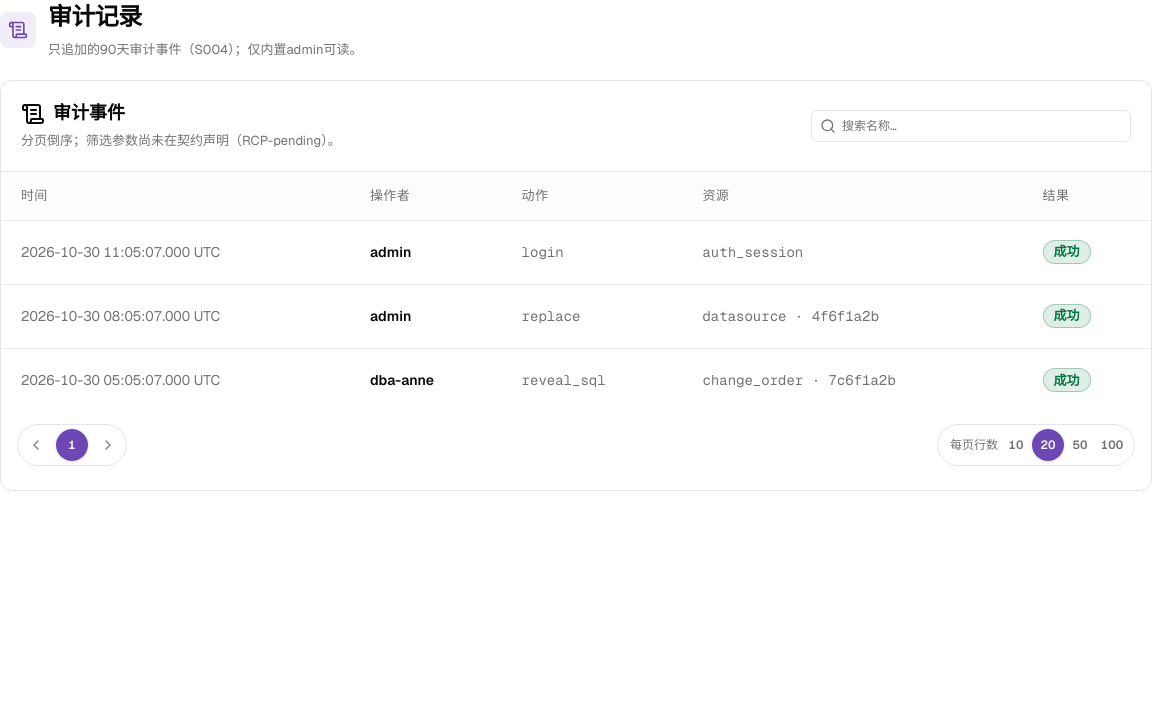
Test: audit records page › renders the admin read face with detail sheet
The image size is (1152, 720).
Expected: the table with test id "records-table" is shown, [1,172,1151,412]
Click the row with test id "records-row-" at (576, 252), box [1,220,1151,284]
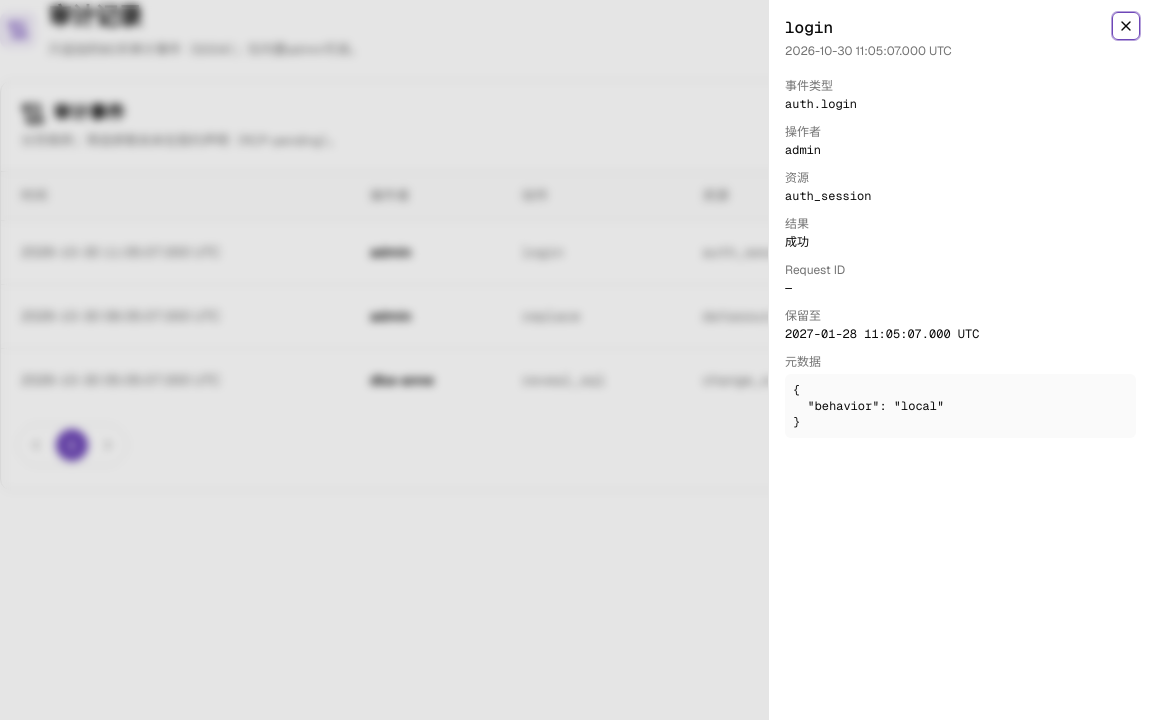
Now the dialog with test id "records-detail" is shown, box [768,0,1151,719]
Now the dialog with test id "records-detail" shows "auth.login", box [785,96,857,112]
